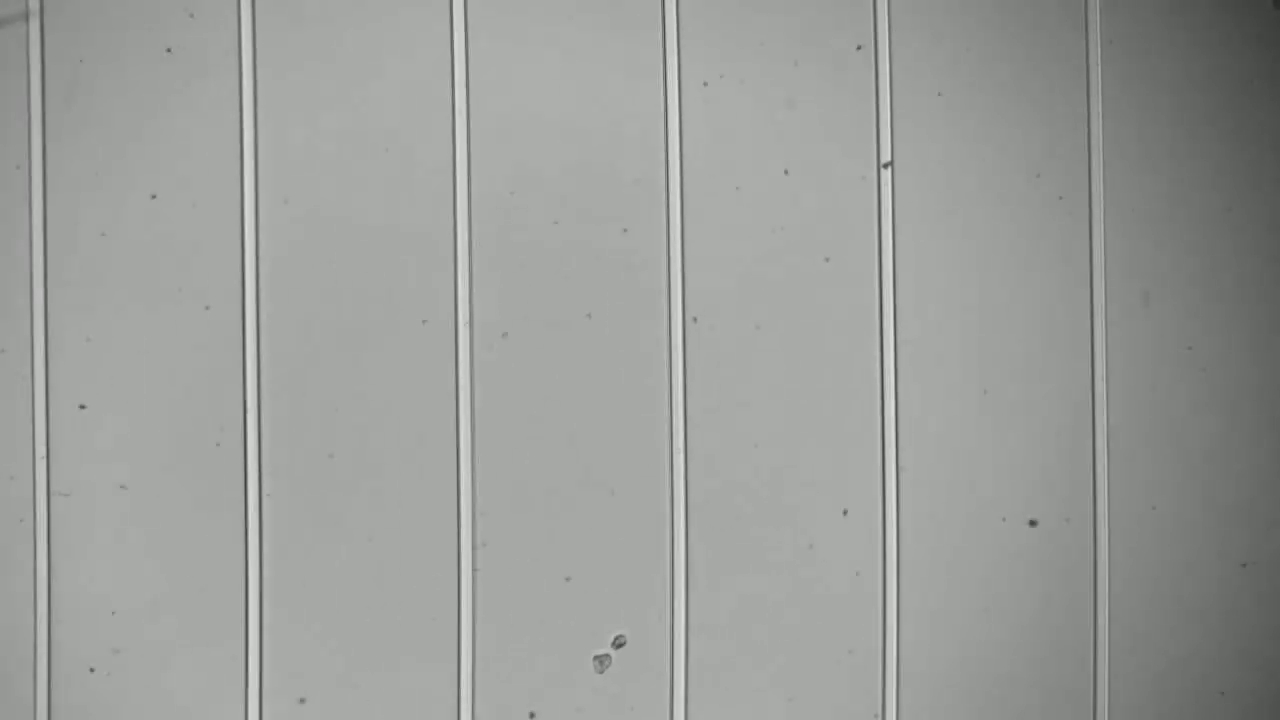stains_enbedded: (873, 151, 899, 176)
